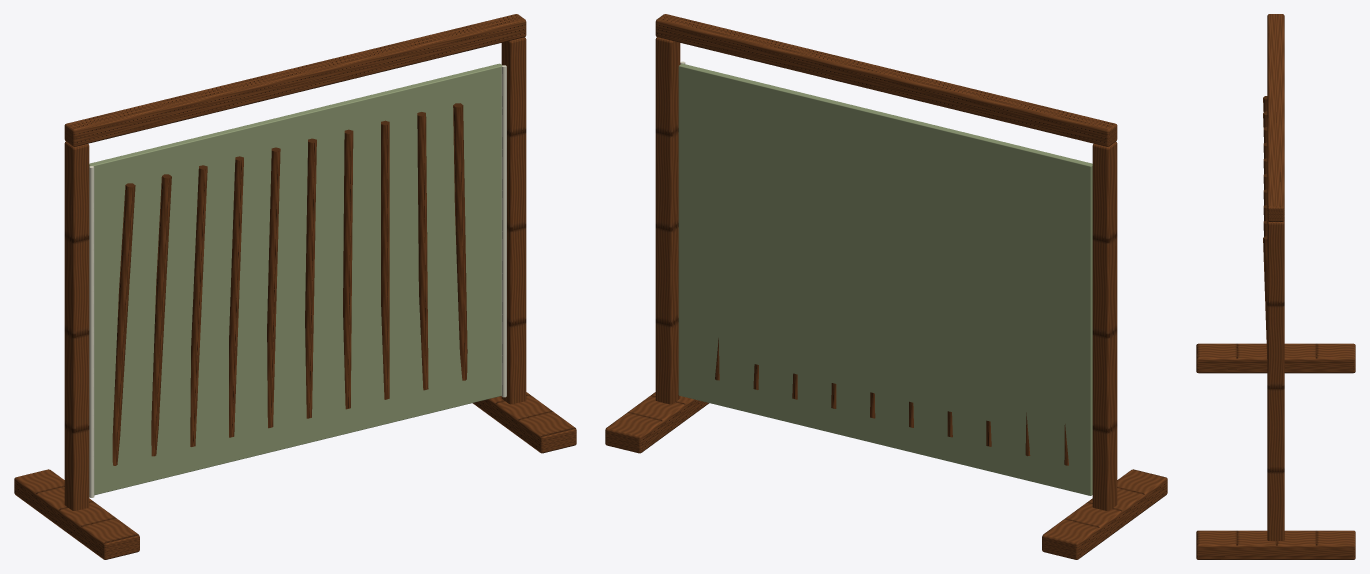
The model's file is prehistoric-expedition-sites-camouflage-screen-b75d3c15__26124.glb.
3 renders of one model, left to right at view 1: azimuth 30°, elevation 25°; view 2: azimuth 150°, elevation 25°; view 3: azimuth 270°, elevation 25°, orthographic. The views are drawn at different scales.
Visible parts, largest first — view 1: camouflage-screen; view 2: camouflage-screen; view 3: camouflage-screen.
Part boxes in pixels (left/top/right/bottom): camouflage-screen: left=14, top=14, right=576, bottom=559; camouflage-screen: left=605, top=14, right=1167, bottom=559; camouflage-screen: left=1196, top=14, right=1355, bottom=559.
Size of the model in its own units: 1.95 by 1.57 by 0.6499.
3 materials, 1 textured.
